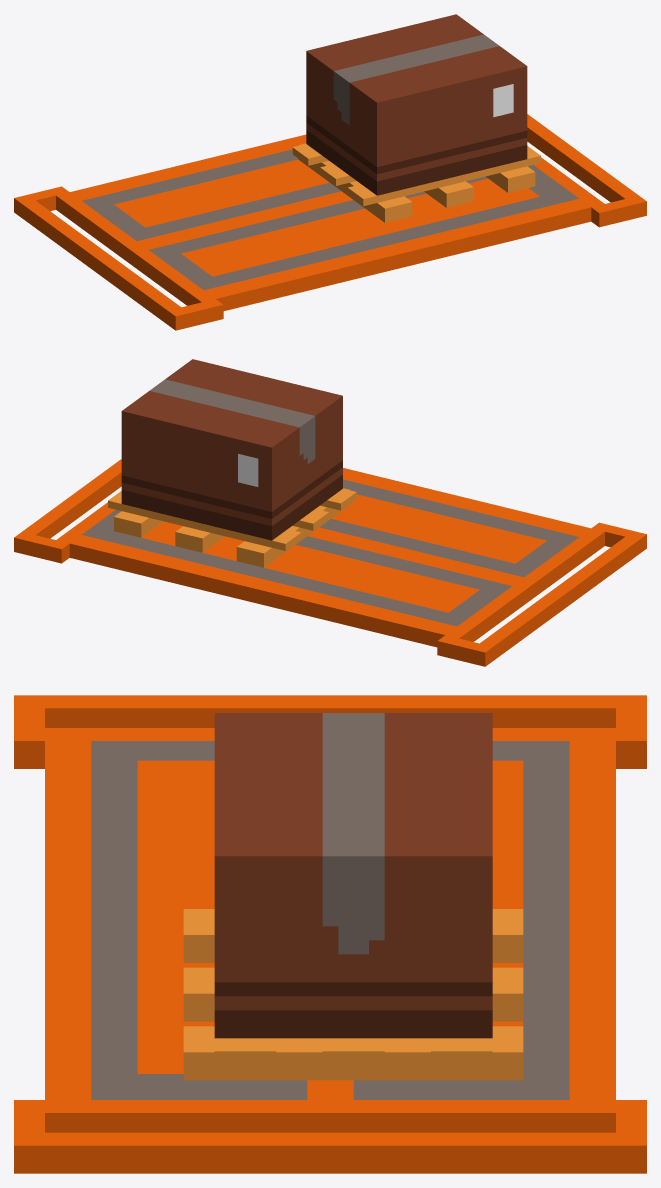
The model's file is ElevadorPlataforma.obj.
3 renders of one model, top to bottom at view 1: azimuth 30°, elevation 25°; view 2: azimuth 150°, elevation 25°; view 3: azimuth 270°, elevation 25°, orthographic. The views are drawn at different scales.
Size of the model in its own units: 6.9 by 1.8 by 4.1.
Materials: 1 (1 with a texture image).
